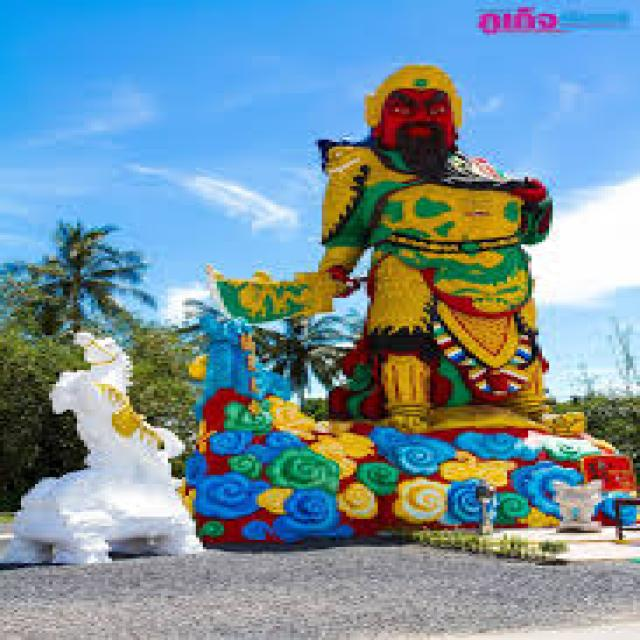Guan Yu: (306, 60, 553, 401)
